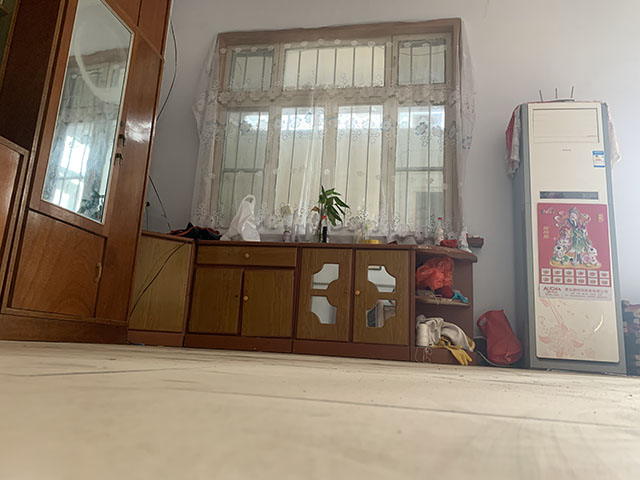cabinet: (128, 229, 478, 368), (1, 143, 145, 345)
wire: (475, 335, 524, 369)
